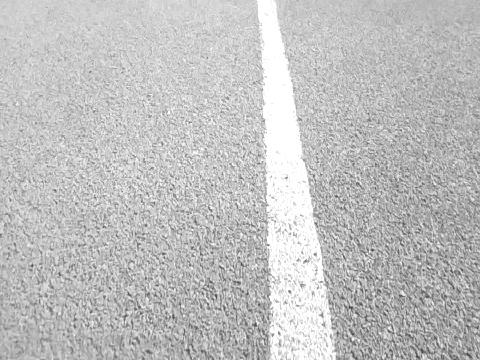Lines: (256, 0, 340, 360)
